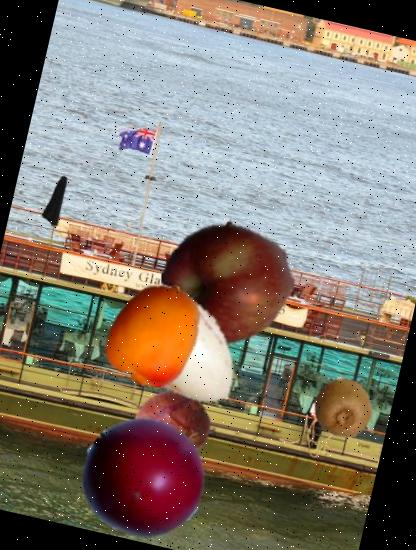Apple: (147, 203, 307, 363)
Apricot: (91, 270, 218, 397)
Kiwi: (306, 371, 380, 444)
Onion: (126, 379, 222, 475)
Pepino: (97, 264, 264, 432)
Tamarillo: (69, 404, 217, 550)
